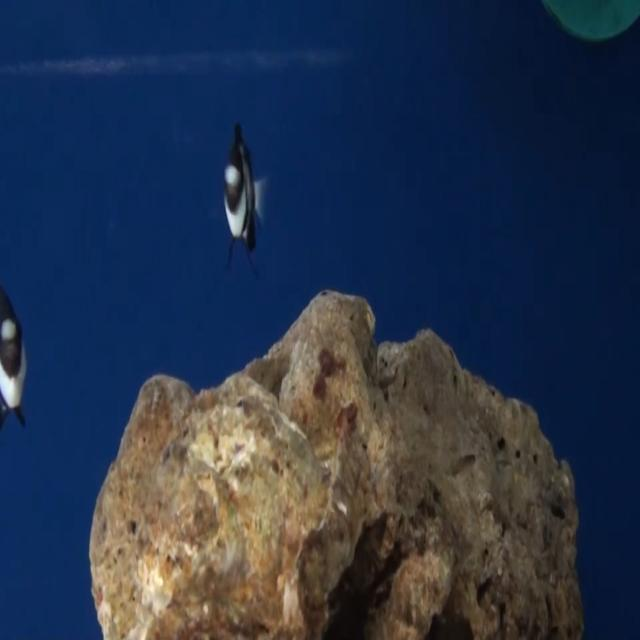ThreeStripedDamselfish: (224, 123, 265, 268)
